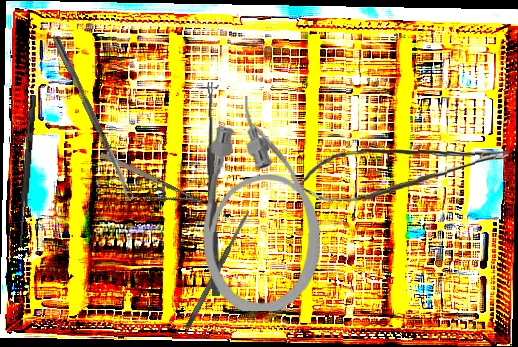Cannula: (201, 94, 324, 313)
Hook Surgical: (17, 94, 37, 248)
Micro Scissor: (297, 143, 511, 205)
Needle Holder: (91, 149, 206, 226)
Spatula Surgical: (183, 208, 253, 331)
Surgical Spoon: (51, 35, 135, 203), (204, 81, 222, 297)
